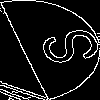S: (24, 25, 100, 71)
